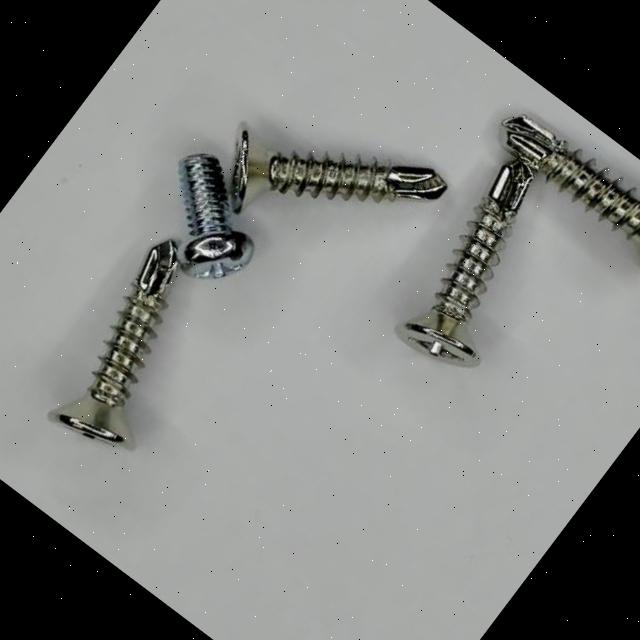Screw: (395, 157, 536, 367), (47, 240, 177, 450), (502, 116, 640, 248), (228, 130, 446, 212), (177, 154, 253, 278)
